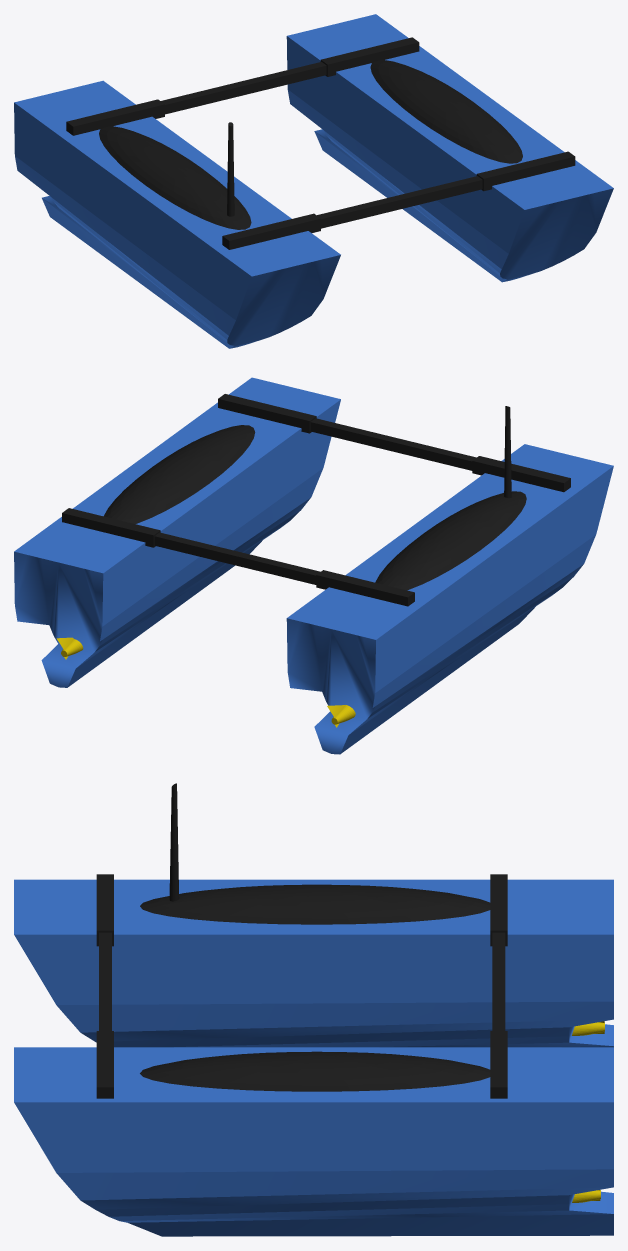
File: usv_visual.dae
3 views of the same model, one above another, from view 1: azimuth 30°, elevation 25°; view 2: azimuth 150°, elevation 25°; view 3: azimuth 270°, elevation 25° (orthographic). The views are drawn at different scales.
Visible parts, largest first — view 1: blueboat; view 2: blueboat; view 3: blueboat.
Boxes of the visible parts, <box> form: blueboat: <box>14,14,613,348</box>; blueboat: <box>14,377,613,754</box>; blueboat: <box>14,783,613,1236</box>.
Size of the model in its own units: 2.11 by 2.4 by 1.23.
